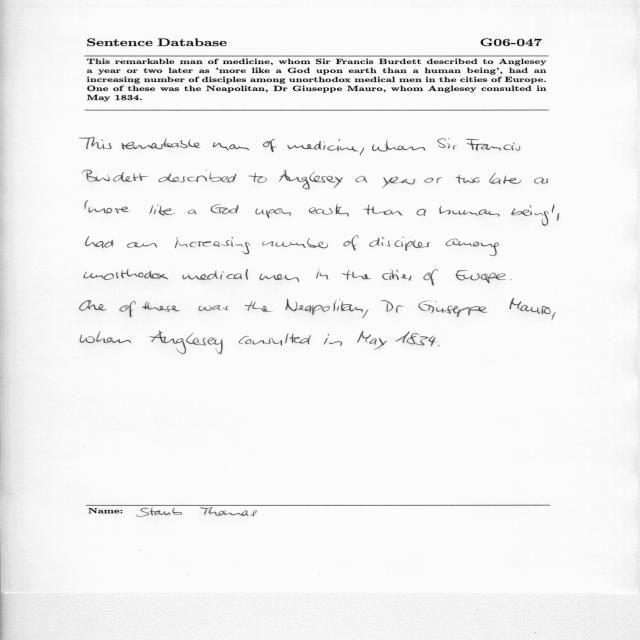word: (150, 331, 223, 354), (286, 299, 369, 319), (279, 170, 343, 190), (175, 237, 250, 254), (419, 300, 488, 317), (159, 170, 237, 182), (239, 333, 311, 346), (84, 269, 168, 280), (446, 239, 499, 256), (121, 138, 200, 149), (370, 237, 431, 251), (288, 139, 359, 151), (511, 205, 549, 226), (83, 170, 149, 182), (183, 269, 248, 280), (509, 298, 551, 314), (439, 206, 500, 217), (455, 270, 506, 283), (262, 238, 328, 248), (466, 139, 520, 151), (372, 140, 425, 152), (395, 332, 436, 347), (357, 331, 387, 350), (80, 332, 131, 343), (309, 204, 349, 217), (363, 205, 403, 216), (382, 177, 415, 189), (80, 137, 112, 149), (142, 302, 180, 312), (255, 208, 291, 218), (382, 269, 412, 281), (489, 173, 521, 184), (86, 236, 114, 248), (260, 274, 300, 282), (244, 301, 272, 312), (80, 300, 107, 311), (88, 207, 130, 214), (342, 270, 371, 280), (213, 143, 249, 151), (150, 205, 176, 216), (382, 300, 404, 313), (211, 204, 239, 214), (119, 301, 136, 317), (423, 269, 438, 286), (324, 334, 343, 346), (455, 175, 480, 184), (344, 236, 359, 251), (437, 139, 457, 150), (248, 173, 267, 183), (263, 139, 277, 152), (127, 242, 157, 248), (199, 305, 229, 311), (316, 269, 329, 280), (424, 177, 443, 183), (534, 177, 549, 184), (355, 176, 368, 183), (417, 209, 426, 216), (188, 210, 196, 215), (551, 312, 556, 320), (360, 148, 364, 156), (552, 204, 555, 213), (85, 201, 88, 209), (557, 213, 559, 221), (510, 280, 512, 281), (438, 345, 440, 346), (381, 301, 382, 302)
